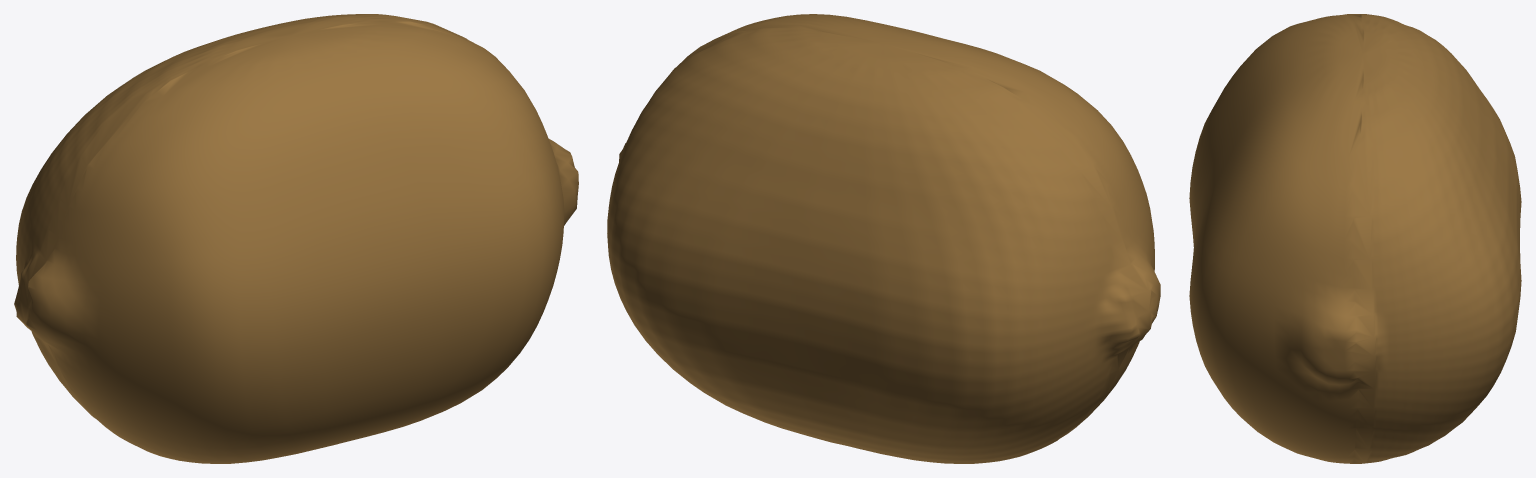
File: kiwi.fbx
3 renders of one model, left to right at view 1: azimuth 30°, elevation 25°; view 2: azimuth 150°, elevation 25°; view 3: azimuth 270°, elevation 25°, orthographic. The views are drawn at different scales.
Visible parts, largest first — view 1: Sphere; view 2: Sphere; view 3: Sphere.
Part boxes in pixels (left/top/right/bottom): Sphere: left=14, top=14, right=578, bottom=463; Sphere: left=607, top=14, right=1160, bottom=463; Sphere: left=1189, top=14, right=1521, bottom=463.
Bounding box in the file's own units: 366 × 256 × 215.
